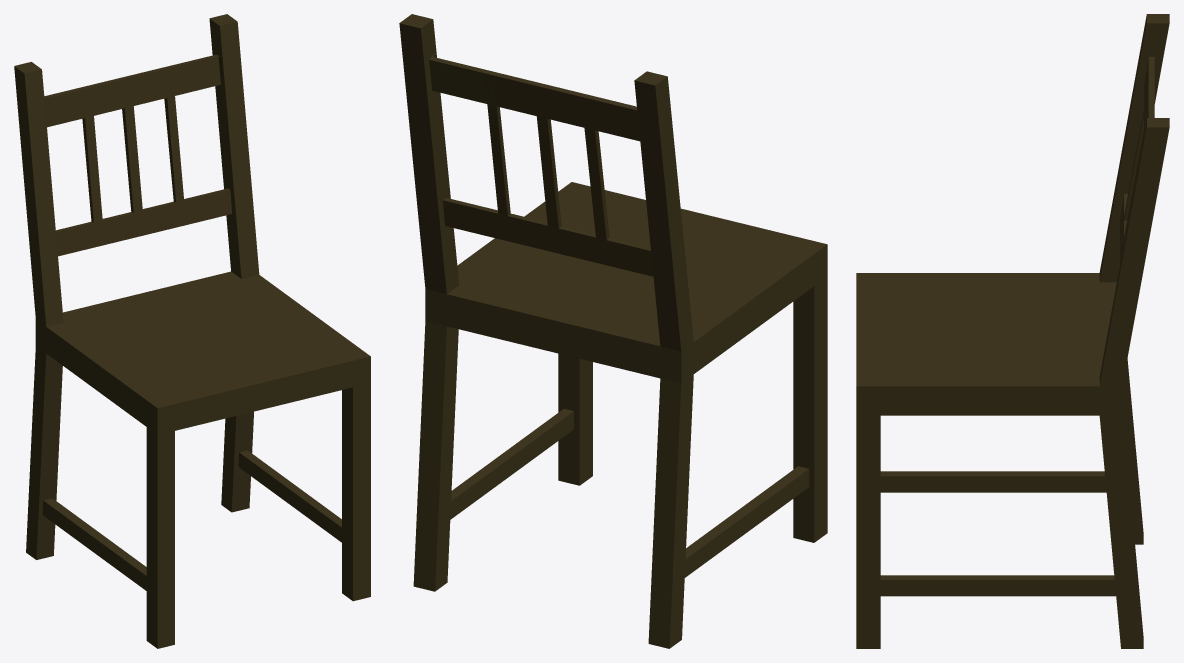
Rendered from IKEA_chair_STEFAN.dae.
3 renders of one model, left to right at view 1: azimuth 30°, elevation 25°; view 2: azimuth 150°, elevation 25°; view 3: azimuth 270°, elevation 25°, orthographic. The views are drawn at different scales.
Visible parts, largest first — view 1: IKEA_chair_STEFAN; view 2: IKEA_chair_STEFAN; view 3: IKEA_chair_STEFAN.
Part boxes in pixels (x1,y1,x2,y2): IKEA_chair_STEFAN: [14, 14, 370, 648]; IKEA_chair_STEFAN: [399, 14, 827, 648]; IKEA_chair_STEFAN: [856, 14, 1169, 648].
Size of the model in its own units: 0.42 by 0.49 by 0.9.
